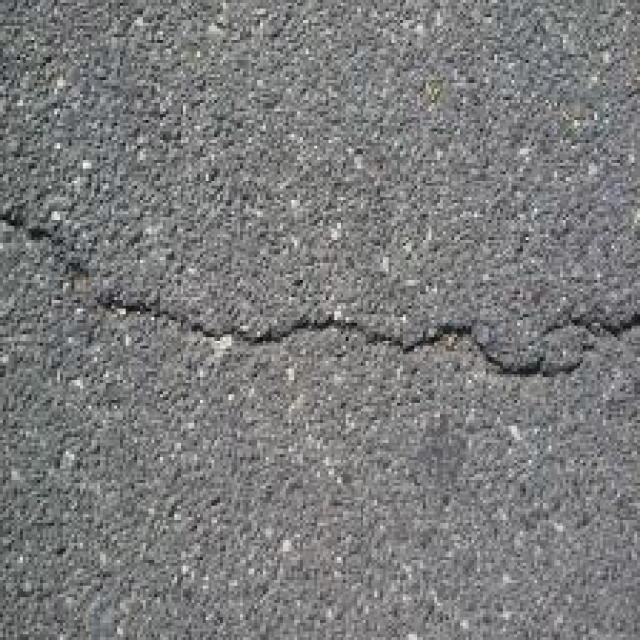crack: (0, 134, 640, 452)
